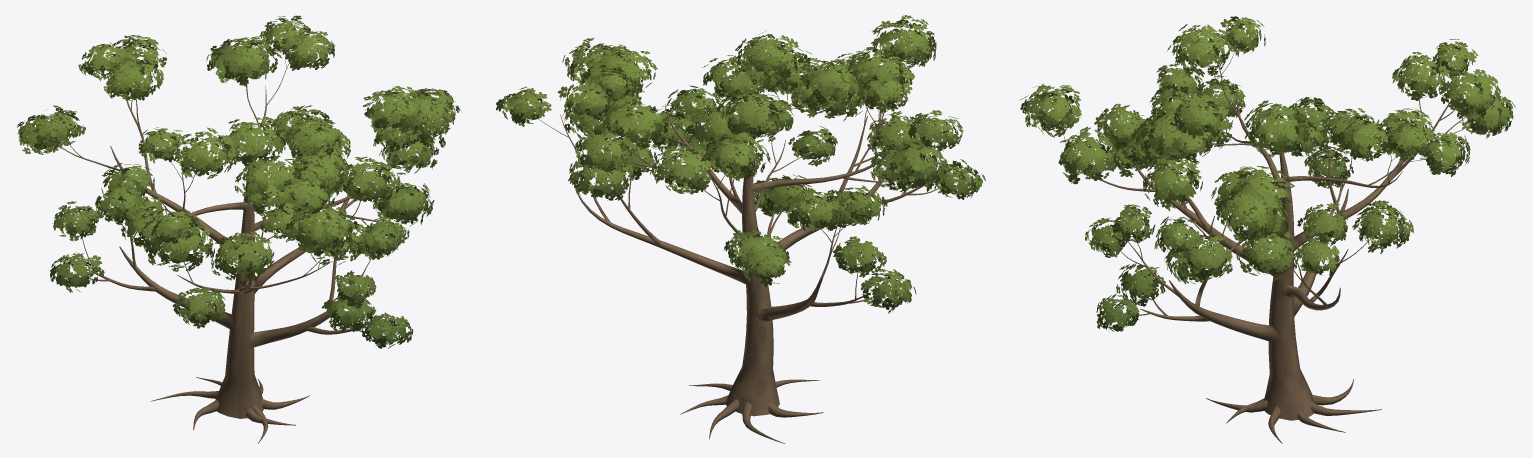
Rendered from tree.gltf.
The picture shows the model from 3 angles, left to right: view 1: azimuth 30°, elevation 25°; view 2: azimuth 150°, elevation 25°; view 3: azimuth 270°, elevation 25°; orthographic projection. The views are drawn at different scales.
Parts seen in each view (by area): view 1: Tree_LOD0; view 2: Tree_LOD0; view 3: Tree_LOD0.
Part boxes in pixels (x1,y1,x2,y2): Tree_LOD0: [17, 15, 462, 443]; Tree_LOD0: [496, 15, 985, 443]; Tree_LOD0: [1019, 16, 1515, 443].
Size of the model in its own units: 31.45 by 24.63 by 32.45.
2 materials, 2 textured.
